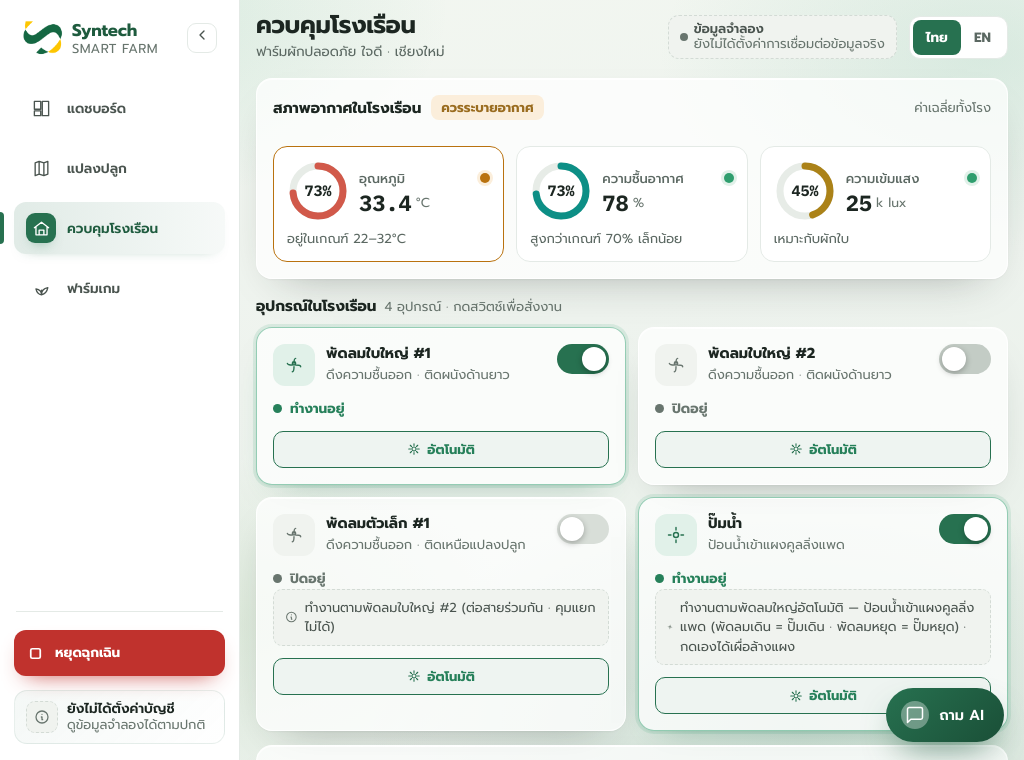
Test: GreenhousePage › guard เตือนเมื่อพัดลมใบใหญ่ทำงานพร้อมกันสองตัว
Expected: the text "พัดลมใบใหญ่ทำงานทั้ง 2 ตัวพร้อมกัน — กินไฟเกินจำเป็น ควรสลับเปิดทีละตัว" is not shown
Click the switch named "พัดลมใบใหญ่ #2 — ปิดอยู่" at (965, 359), box [939,344,991,374]
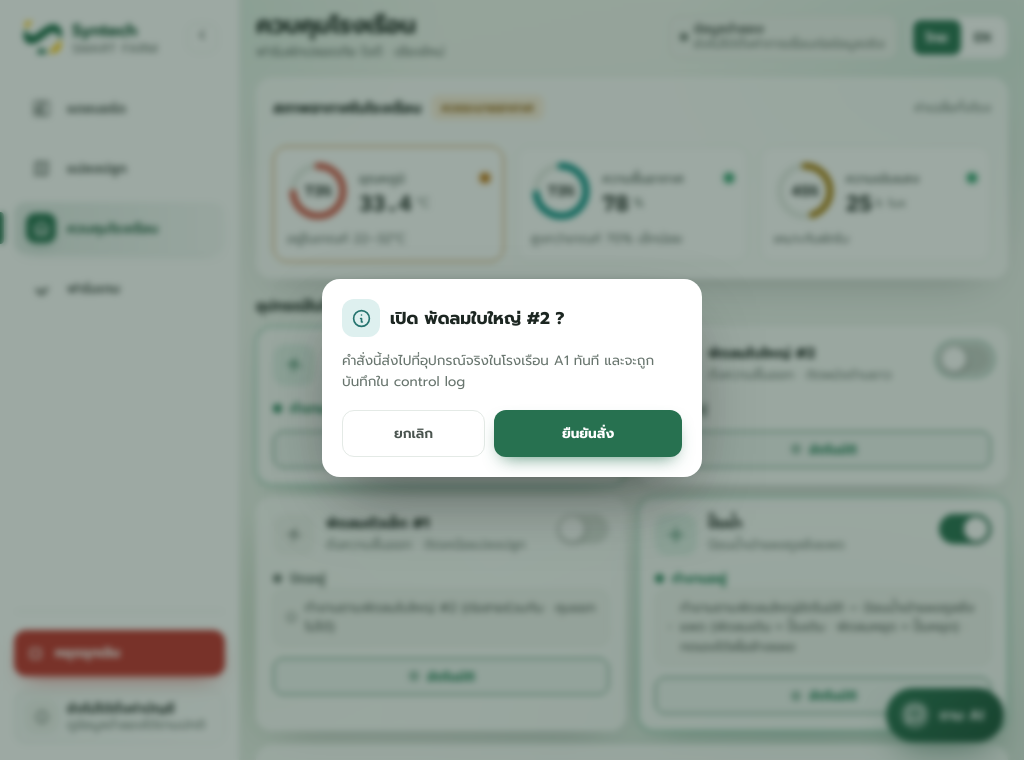
Click the button "ยืนยันสั่ง" at (588, 433), box [494,410,682,457]
(page scrolled)
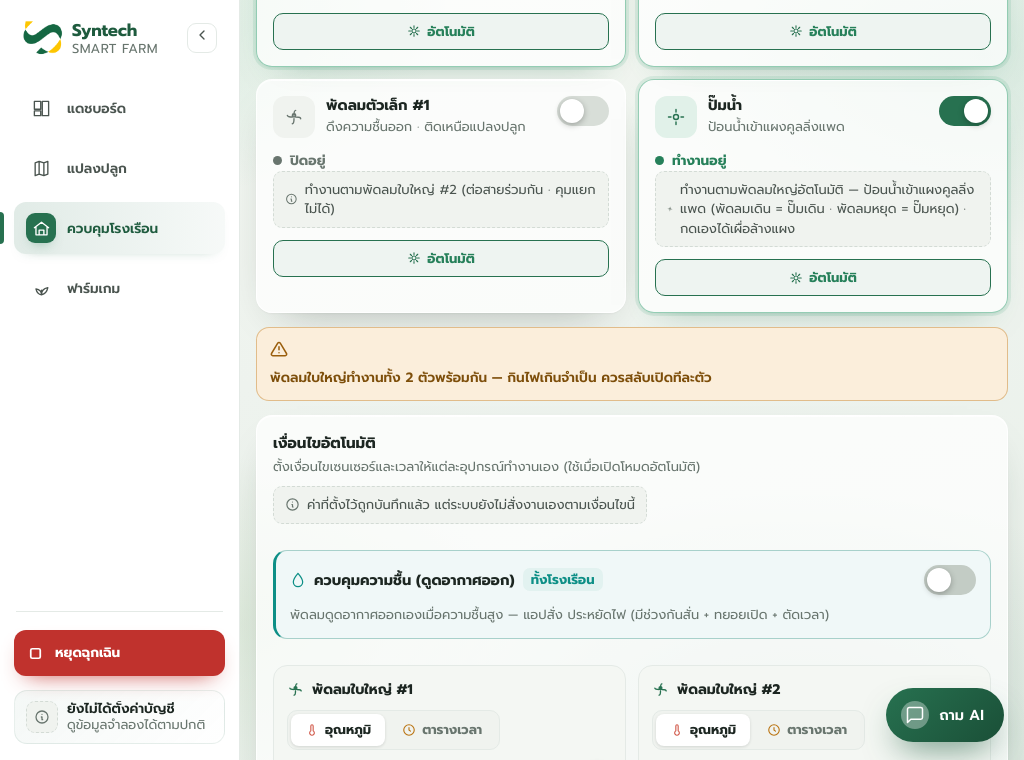
Expected: the text "พัดลมใบใหญ่ทำงานทั้ง 2 ตัวพร้อมกัน — กินไฟเกินจำเป็น ควรสลับเปิดทีละตัว" is shown, [270,368,712,388]
